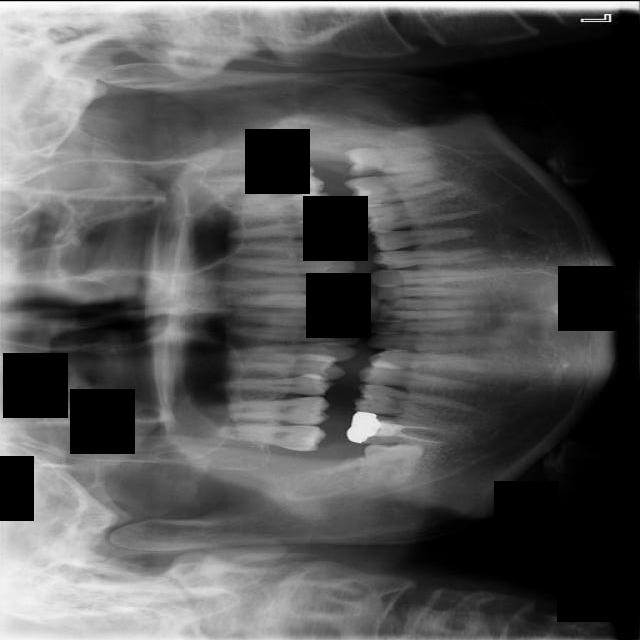52: (344, 403, 384, 449), (360, 167, 394, 175), (268, 188, 295, 198), (382, 409, 405, 418), (384, 415, 398, 421)
73: (371, 414, 471, 449), (580, 38, 592, 42)
BioHorizons Implant: (202, 161, 326, 211)
Biomet 3i Implant: (343, 145, 449, 175)
Blue Sky Bio Implant: (343, 165, 460, 210)
Caries: (216, 420, 327, 452)
Implant: (345, 410, 472, 451)
Keystone Dental Implant: (359, 441, 424, 488)
